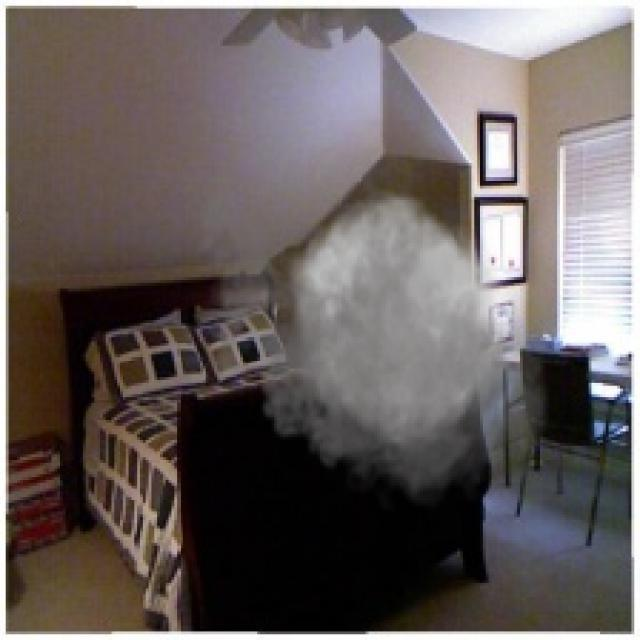Smoke: (188, 123, 563, 520)
